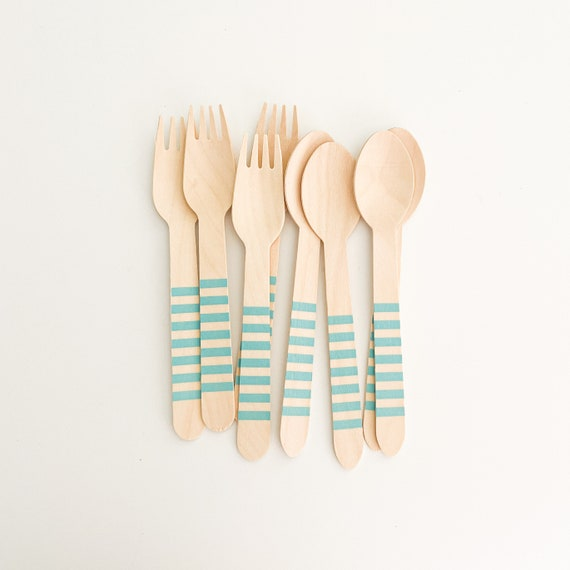Wooden Utensils: (131, 94, 281, 456), (285, 119, 434, 466)
